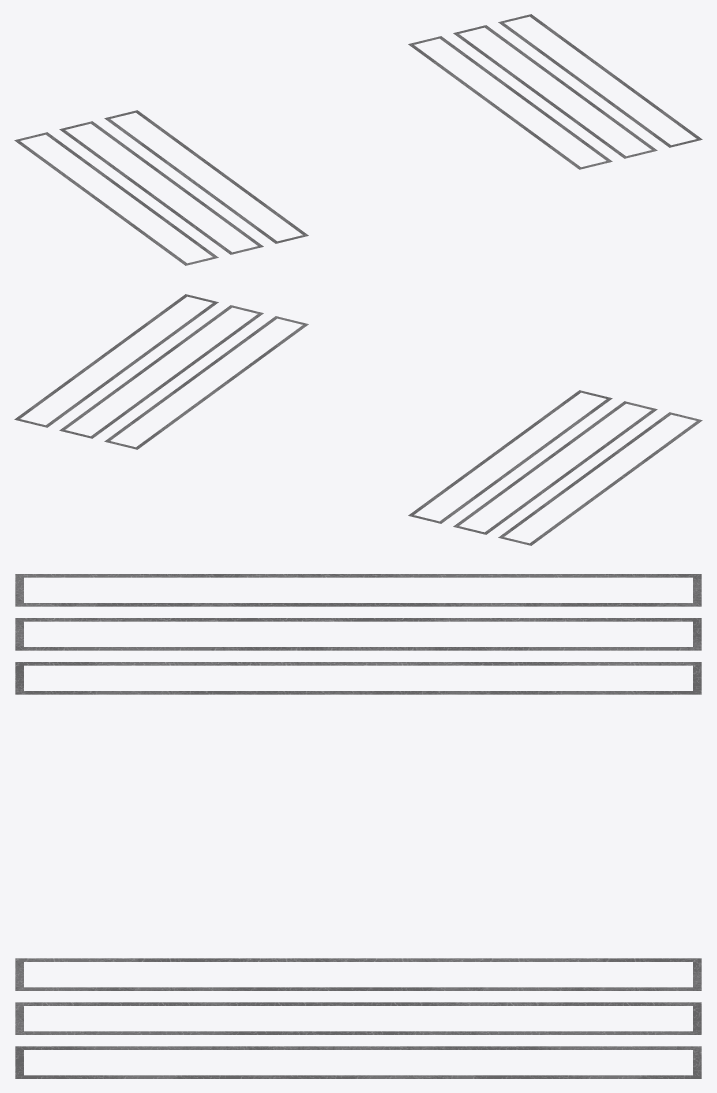
The model's file is touchdown_point_3-border.gltf.
3 renders of one model, top to bottom at view 1: azimuth 30°, elevation 25°; view 2: azimuth 150°, elevation 25°; view 3: azimuth 270°, elevation 25°, orthographic. The views are drawn at different scales.
Visible parts, largest first — view 1: touchdown_point_3-border; view 2: touchdown_point_3-border; view 3: touchdown_point_3-border.
Part boxes in pixels (x1=…): touchdown_point_3-border: x1=14, y1=14, x2=702, y2=265; touchdown_point_3-border: x1=14, y1=294, x2=702, y2=545; touchdown_point_3-border: x1=15, y1=574, x2=701, y2=1078.
Size of the model in its own units: 40.2 by 0 by 23.1.
